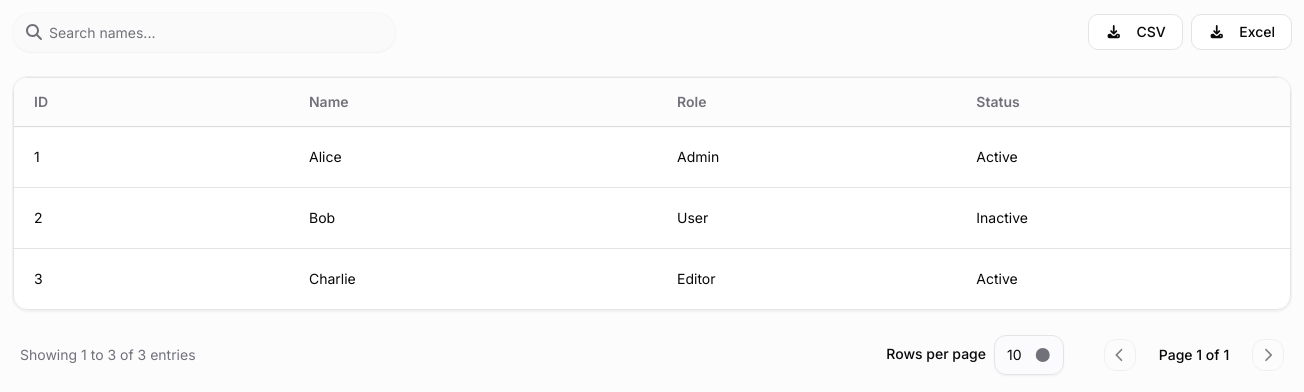
Test: DataTable Component › filters data based on search input
// Type "Bob"
Type "Bob" into the field with placeholder "Search names..." at [204, 32], box [12,12,396,52]
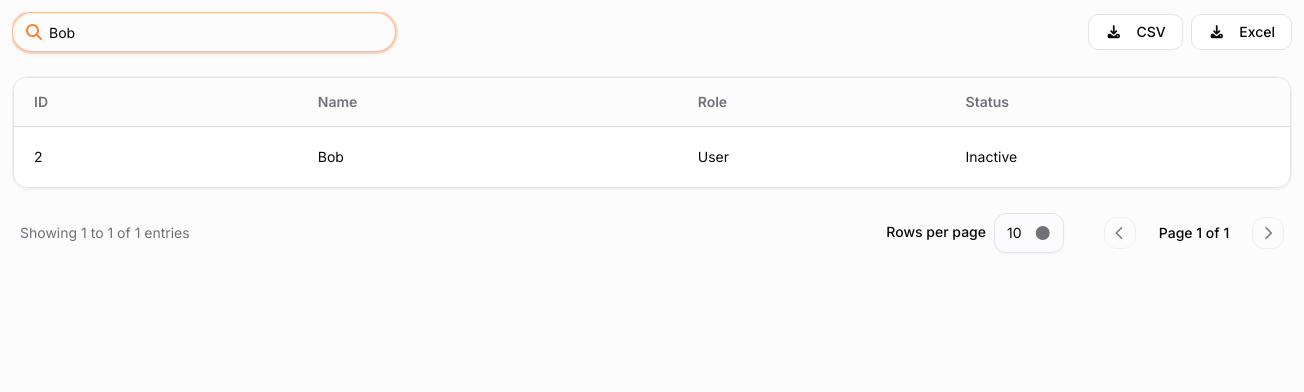
Expected: the text "Bob" is shown, [298,126,678,186]
Expected: the text "Alice" is gone
Expected: the text "Charlie" is gone
